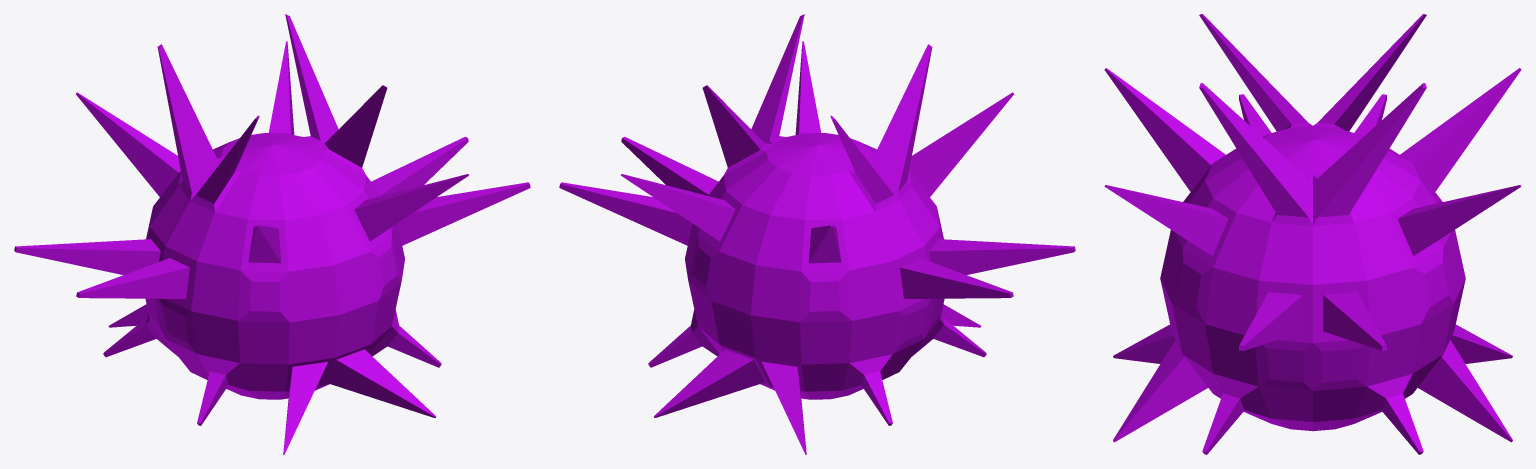
File: Urchin.fbx
3 views of the same model, side by side, from view 1: azimuth 30°, elevation 25°; view 2: azimuth 150°, elevation 25°; view 3: azimuth 270°, elevation 25° (orthographic). The views are drawn at different scales.
Visible parts, largest first — view 1: Urchin; view 2: Urchin; view 3: Urchin.
Boxes of the visible parts, bbox=[...] form: Urchin: bbox=[14, 14, 530, 454]; Urchin: bbox=[559, 14, 1075, 454]; Urchin: bbox=[1104, 14, 1521, 454].
Size of the model in its own units: 151 by 103 by 106.
